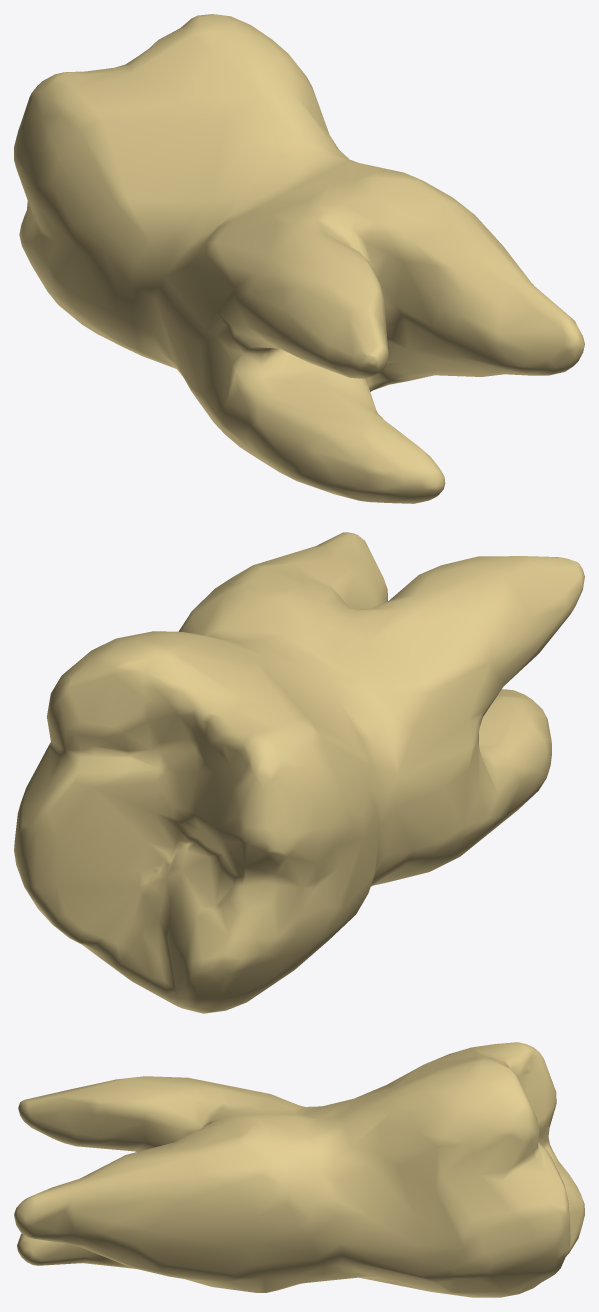
3 renders of one model, top to bottom at view 1: azimuth 30°, elevation 25°; view 2: azimuth 150°, elevation 25°; view 3: azimuth 270°, elevation 25°, orthographic. The views are drawn at different scales.
Visible parts, largest first — view 1: 右侧上颌第一磨牙; view 2: 右侧上颌第一磨牙; view 3: 右侧上颌第一磨牙.
Boxes of the visible parts, box(x1,y1,x2,y2) form: 右侧上颌第一磨牙: box(14, 14, 584, 503); 右侧上颌第一磨牙: box(14, 532, 584, 1013); 右侧上颌第一磨牙: box(14, 1042, 584, 1297).
Size of the model in its own units: 0.0167 by 0.0166 by 0.0353.
